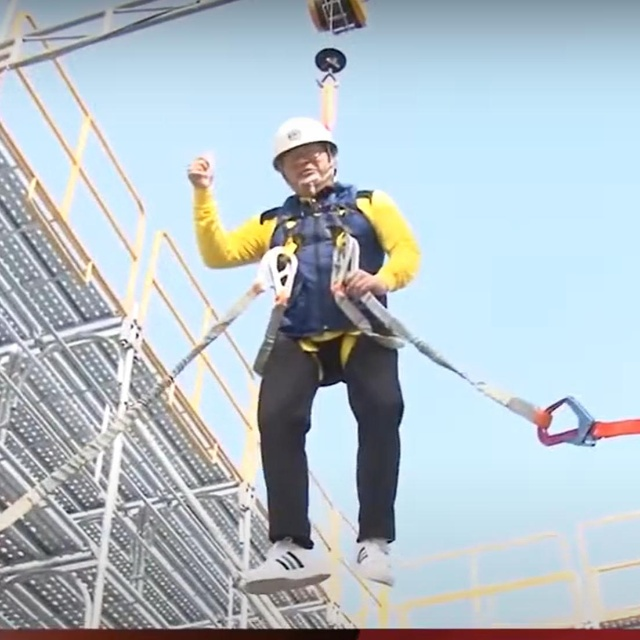Arnes_seguridad: (250, 183, 406, 394)
